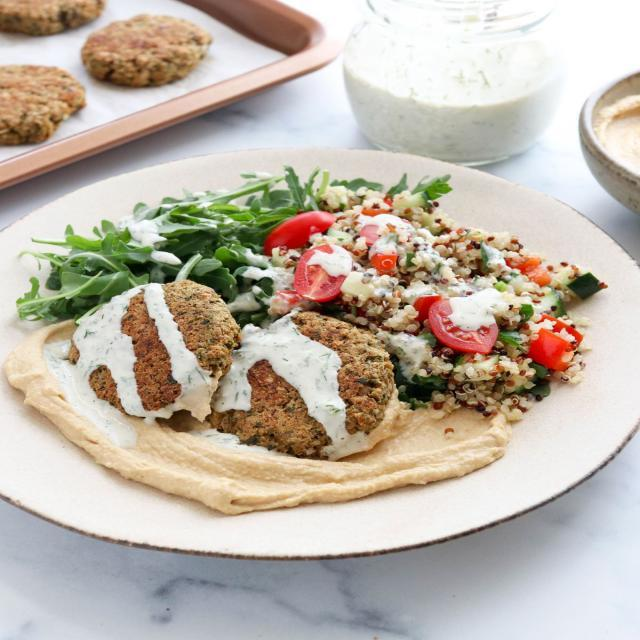flafel: (226, 314, 390, 456), (61, 282, 235, 412)
